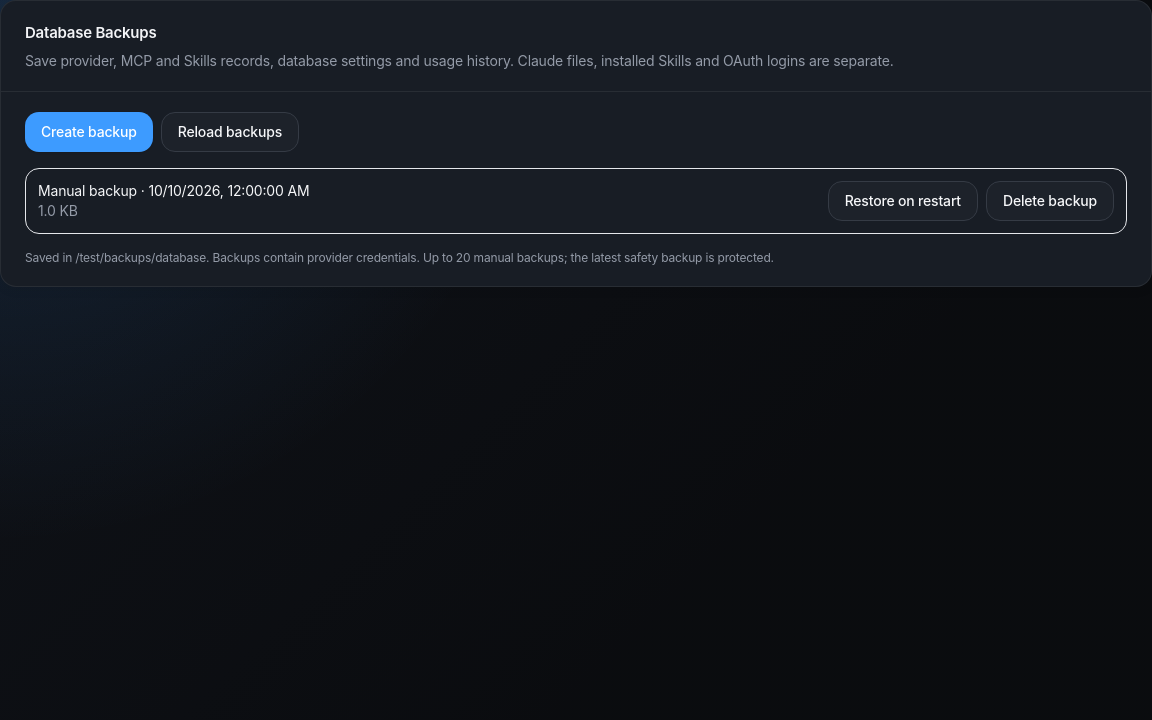
does not stage or claim success when backend validation fails
Click the button "Restore on restart": x=903, y=201 [828,181,978,221]
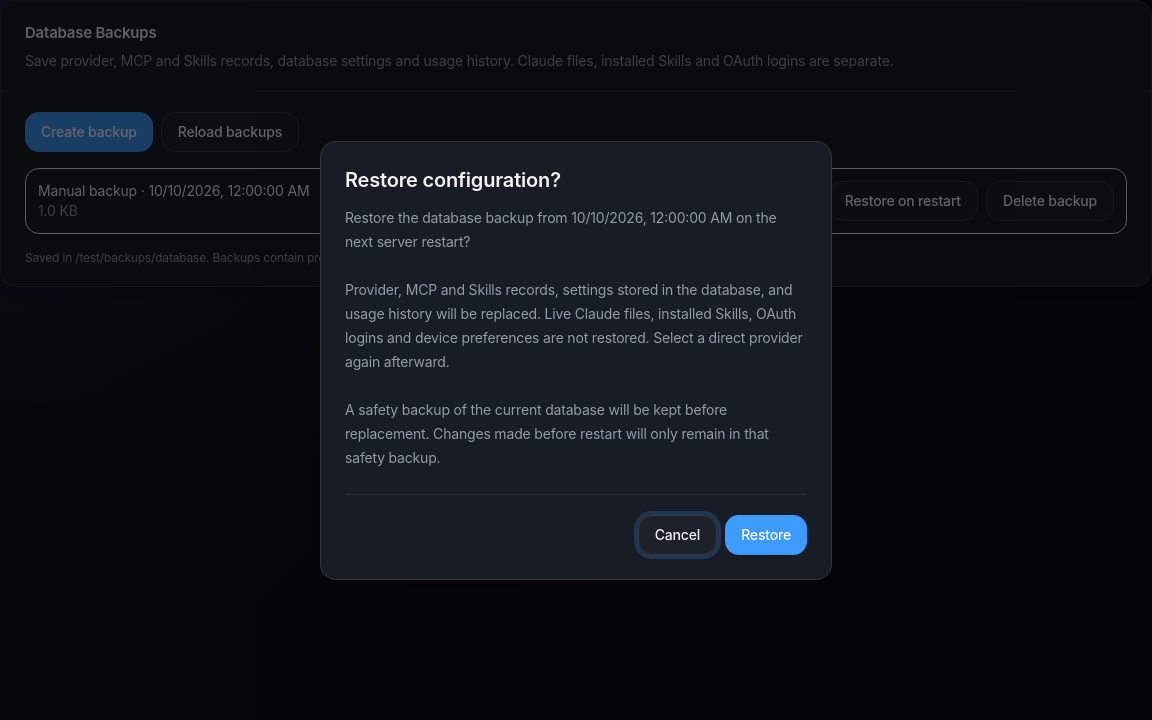
Click the button "Restore": x=766, y=534 [725,514,807,554]
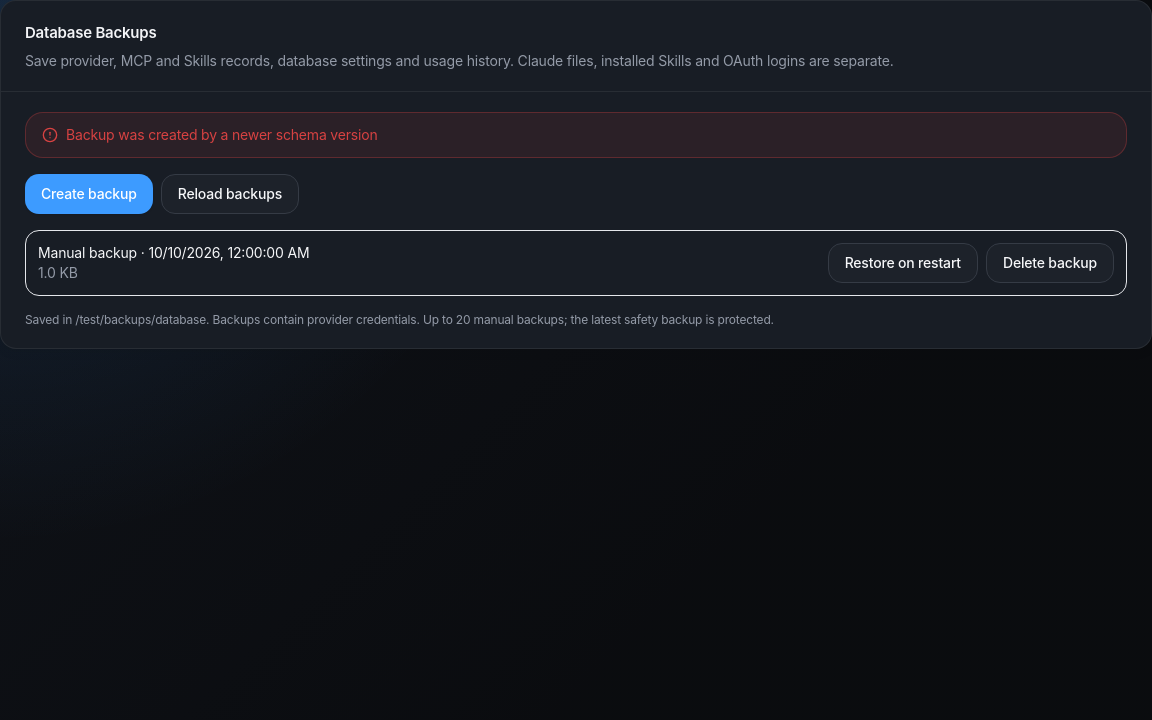
Check: the text "Backup was created by a newer schema version" is shown, box [66,125,378,145]
